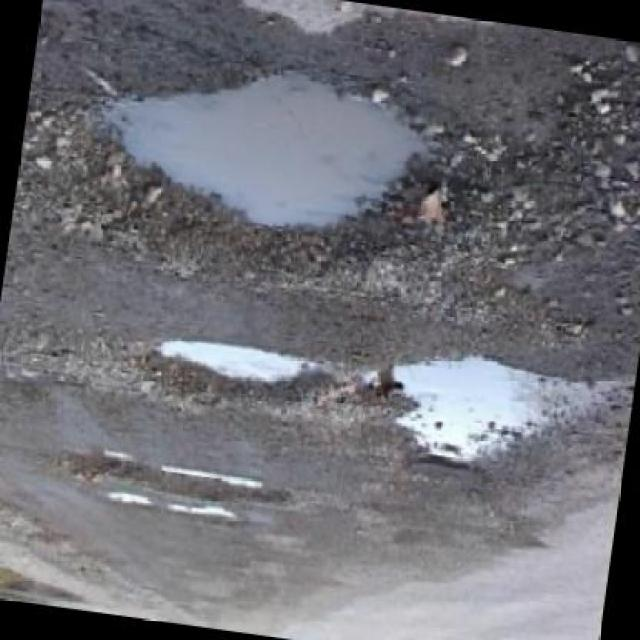pothole1: (41, 35, 492, 314), (354, 340, 564, 489), (140, 332, 340, 418), (64, 442, 296, 512), (88, 490, 248, 532)
